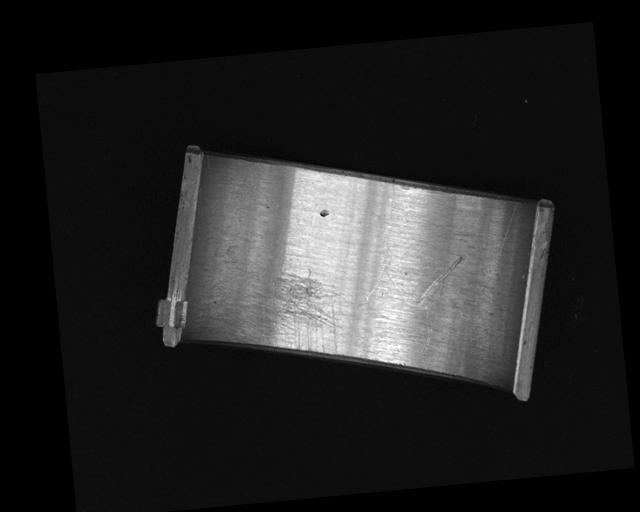bruise: (318, 209, 330, 218)
nick: (352, 181, 405, 302), (475, 199, 525, 291), (415, 255, 467, 303), (416, 300, 433, 357)
scratch: (223, 264, 349, 363)
